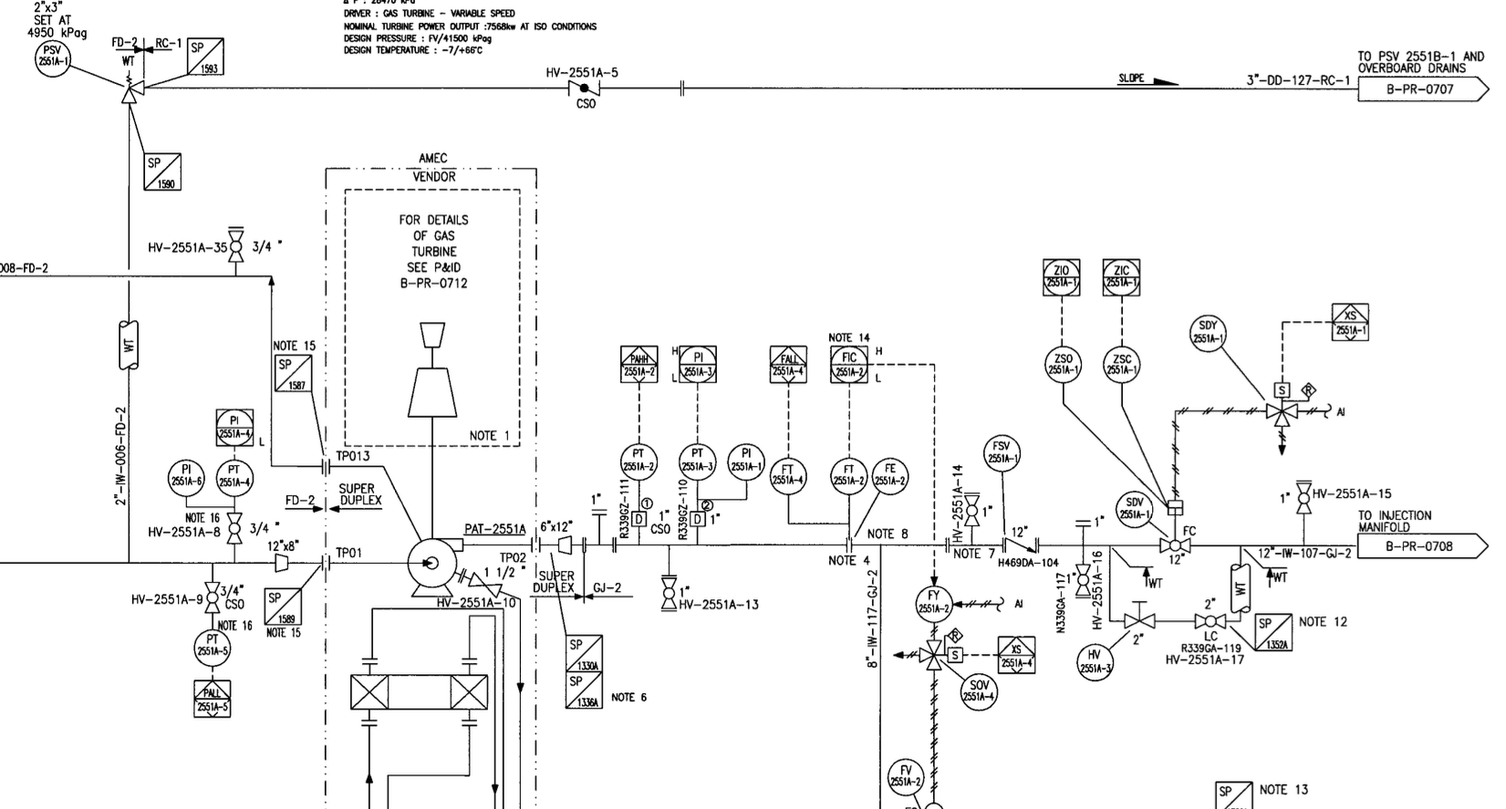Instrument: (1106, 484, 1158, 534), (1098, 338, 1144, 389), (1183, 312, 1234, 356), (186, 625, 236, 669), (1072, 638, 1117, 686), (1043, 339, 1085, 390), (911, 582, 958, 627), (869, 455, 917, 499), (674, 437, 718, 485), (954, 670, 1001, 714), (616, 440, 663, 482), (769, 453, 810, 499), (213, 456, 257, 498), (983, 430, 1023, 476), (885, 754, 927, 797), (166, 455, 207, 499), (828, 453, 869, 495), (725, 441, 765, 484), (33, 39, 75, 77)
Instrument-square: (187, 675, 238, 723), (1096, 252, 1147, 299), (673, 338, 724, 385), (1325, 299, 1375, 346), (209, 402, 257, 449), (617, 337, 662, 387), (1038, 254, 1085, 300), (993, 633, 1043, 676), (766, 341, 812, 387), (826, 341, 871, 386)
